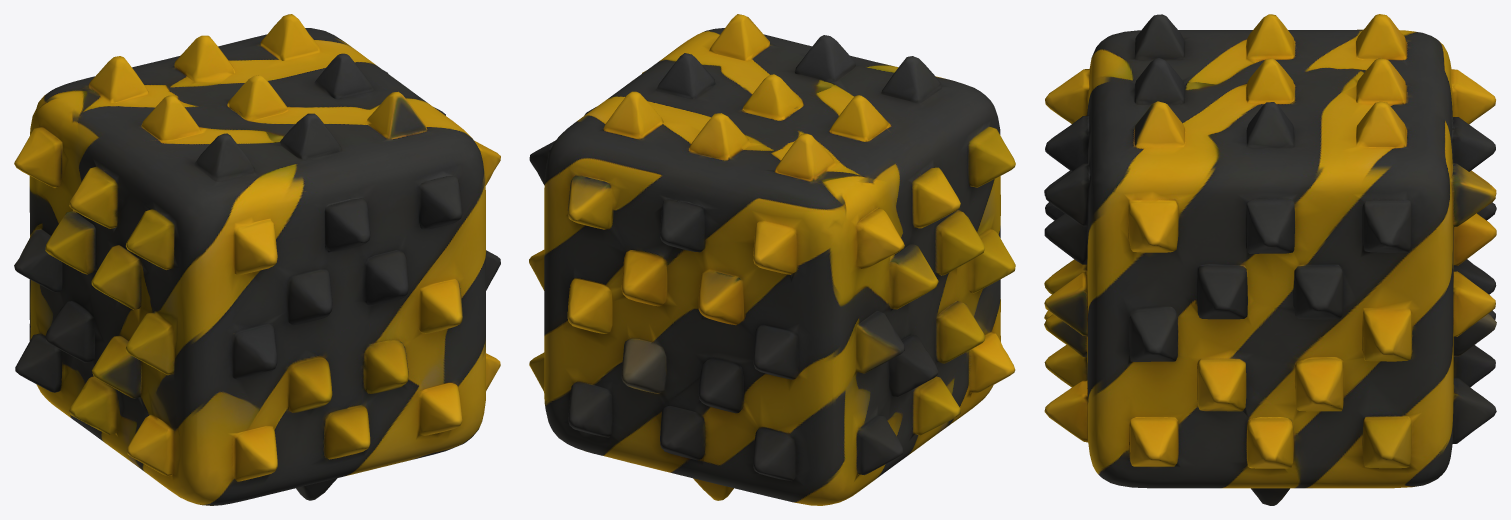
The picture shows the model from 3 angles, left to right: view 1: azimuth 30°, elevation 25°; view 2: azimuth 150°, elevation 25°; view 3: azimuth 270°, elevation 25°; orthographic projection. The views are drawn at different scales.
Parts seen in each view (by area): view 1: tripo_node_62dc922d-16ca-41fc-a142-9b472666b552; view 2: tripo_node_62dc922d-16ca-41fc-a142-9b472666b552; view 3: tripo_node_62dc922d-16ca-41fc-a142-9b472666b552.
Part boxes in pixels (left/top/right/bottom): tripo_node_62dc922d-16ca-41fc-a142-9b472666b552: left=14, top=14, right=500, bottom=505; tripo_node_62dc922d-16ca-41fc-a142-9b472666b552: left=529, top=14, right=1015, bottom=505; tripo_node_62dc922d-16ca-41fc-a142-9b472666b552: left=1044, top=14, right=1496, bottom=505.
Bounding box in the file's own units: 1 × 0.9816 × 1.
Materials: 1 (1 with a texture image).
